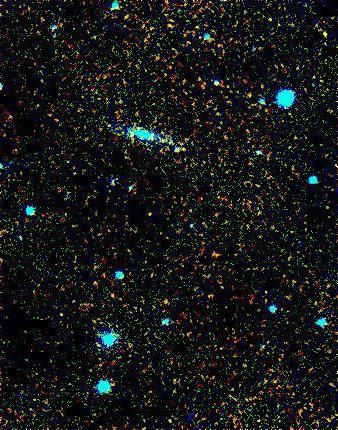star: (172, 134, 202, 164)
